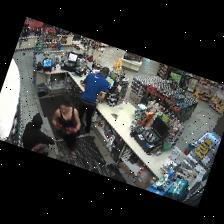person: (78, 67, 109, 134), (52, 96, 80, 158), (22, 114, 54, 155)
